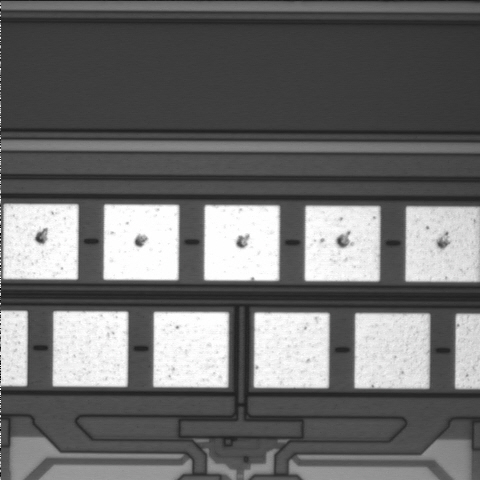pad: (3, 204, 79, 280), (103, 204, 179, 280), (204, 205, 280, 281), (53, 311, 128, 387), (153, 312, 229, 387), (254, 312, 329, 388), (354, 313, 430, 388), (305, 206, 380, 281)
